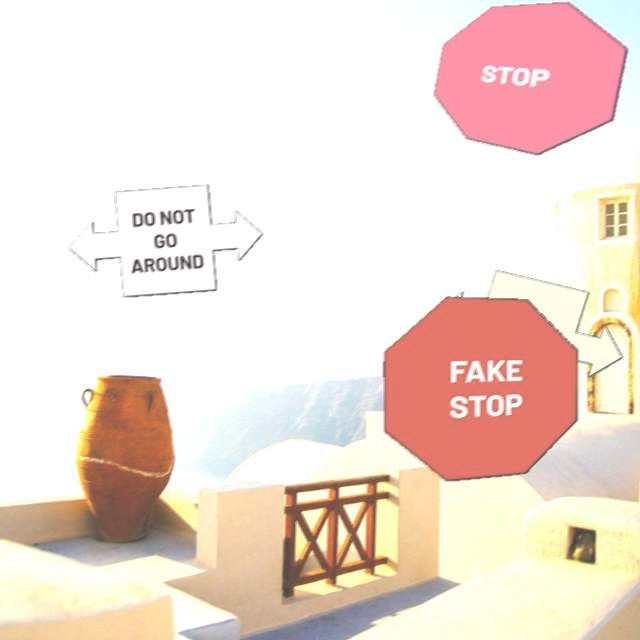DO_NOT_GO_AROUND: (67, 184, 262, 297)
FAKE_STOP: (382, 296, 577, 481)
GO_AROUND: (427, 269, 622, 399)
STOP: (432, 1, 627, 155)
